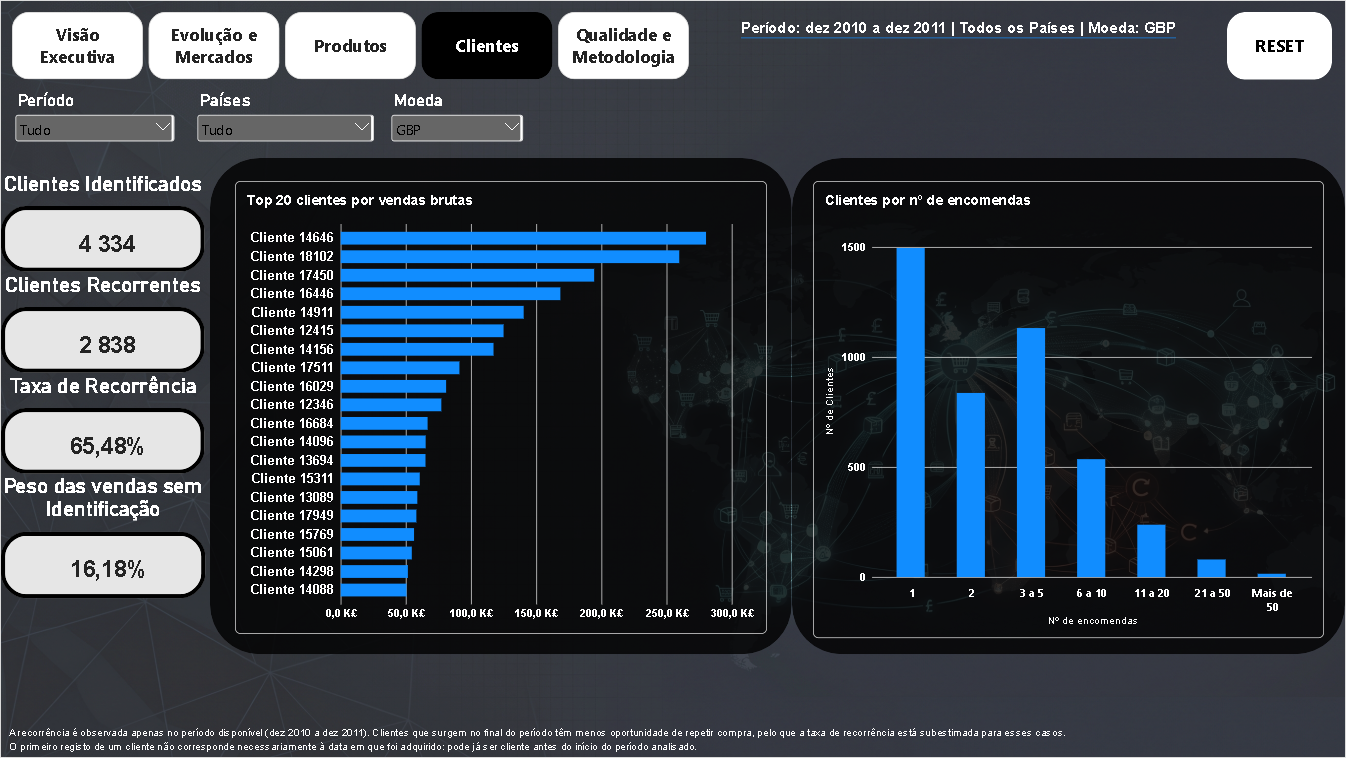

This screenshot's page, from the dashboard's own definition file:
{"tool":"powerbi","page":{"name":"Clientes","canvas":[1920,1080],"ordinal":3},"visuals":[{"type":"actionButton","box":[1751.7,15,150,96.7],"z":0},{"type":"pageNavigator","box":[15,15,971.7,96.7],"z":1000},{"type":"slicer","title":"Período","fields":{"Values":["dCalendario.MesAno"]},"box":[15,128.3,236.7,96.7],"z":2000},{"type":"slicer","title":"Período","fields":{"Values":["dPais.PaisPT"]},"box":[275,128.3,261.7,96.7],"z":3000},{"type":"slicer","title":"Período","fields":{"Values":["dMoeda.Moeda"]},"box":[553.3,128.3,198.3,96.7],"z":4000},{"type":"textbox","box":[1056.7,26.7,678.3,101.7],"z":5000},{"type":"cardVisual","title":"Clientes Identificados","fields":{"Data":["_Medidas.Texto Clientes Identificados"]},"box":[0,242.7,291.4,144.3],"z":6000},{"type":"cardVisual","title":"Taxa de Recorrência","fields":{"Data":["_Medidas.Taxa Recorrencia"]},"box":[0,530.7,291.4,144.3],"z":7000},{"type":"cardVisual","title":"Clientes Recorrentes","fields":{"Data":["_Medidas.Texto Clientes Recorrentes"]},"box":[0,386.7,291.4,144.3],"z":8000},{"type":"cardVisual","title":"Peso das vendas sem Identificação","fields":{"Data":["_Medidas.Peso Vendas sem Identif"]},"box":[0,674.7,292.1,179.7],"z":9000},{"type":"shape","box":[299,224.9,831.1,709],"z":10000},{"type":"barChart","title":"Top 20 clientes por vendas brutas","fields":{"Category":["dCliente.ClienteNome"],"Y":["_Medidas.Vendas Brutas"]},"box":[334.6,256.5,759.8,647.3],"z":11000},{"type":"shape","box":[1130.1,224.9,789.9,709],"z":12000},{"type":"columnChart","title":"Clientes por nº de encomendas","fields":{"Category":["dFaixaEncomendas.Faixa"],"Y":["_Medidas.Clientes na Faixa"]},"box":[1160.2,256.5,729.6,652.8],"z":13000},{"type":"textbox","box":[11,1034.1,1525,30.2],"z":14000},{"type":"textbox","box":[11,1054.6,994.3,24.7],"z":15000}]}

Visuals, with their boxes in screenshot pixels (x1, y1, x2, y2), scaled from the page's 1920x1080 canvas onto the 1346x758 screenshot:
actionButton: box(1228, 11, 1333, 78)
pageNavigator: box(11, 11, 692, 78)
"Período" slicer: box(11, 90, 176, 158)
"Período" slicer: box(193, 90, 376, 158)
"Período" slicer: box(388, 90, 527, 158)
textbox: box(741, 19, 1216, 90)
"Clientes Identificados" cardVisual: box(0, 170, 204, 272)
"Taxa de Recorrência" cardVisual: box(0, 372, 204, 474)
"Clientes Recorrentes" cardVisual: box(0, 271, 204, 373)
"Peso das vendas sem Identificação" cardVisual: box(0, 474, 205, 600)
shape: box(210, 158, 792, 655)
"Top 20 clientes por vendas brutas" barChart: box(235, 180, 767, 634)
shape: box(792, 158, 1345, 655)
"Clientes por nº de encomendas" columnChart: box(813, 180, 1325, 638)
textbox: box(8, 726, 1077, 747)
textbox: box(8, 740, 705, 757)
